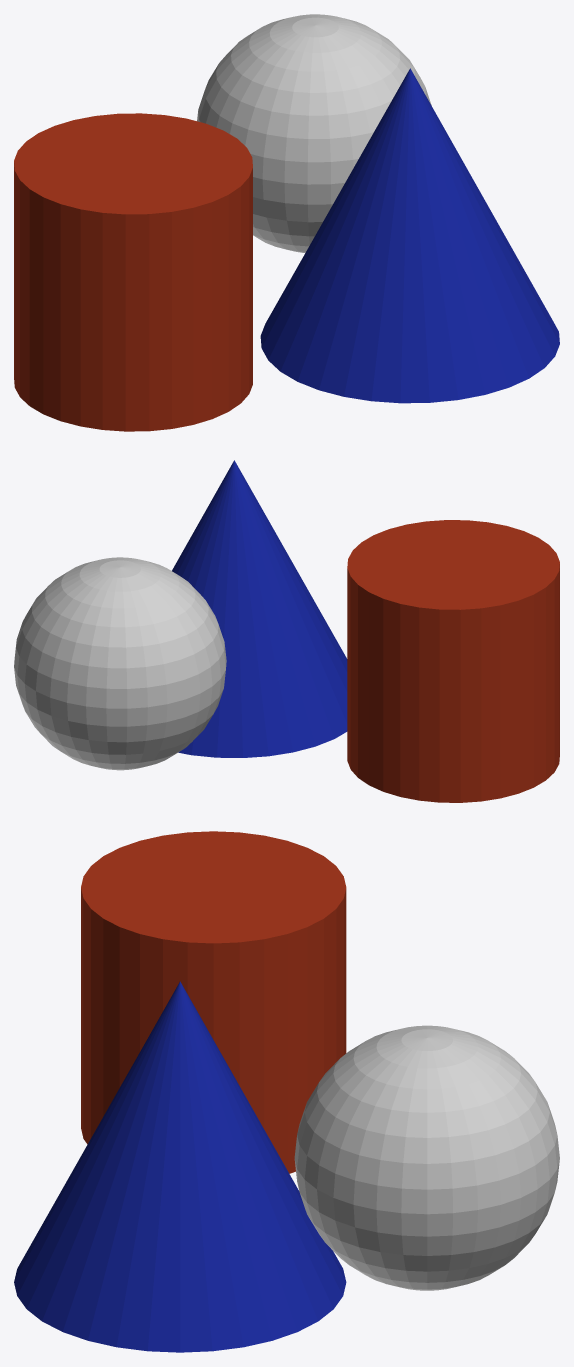
The model's file is ruben.obj.
3 views of the same model, one above another, from view 1: azimuth 30°, elevation 25°; view 2: azimuth 150°, elevation 25°; view 3: azimuth 270°, elevation 25° (orthographic). The views are drawn at different scales.
Parts seen in each view (by area): view 1: Cylinder, Cone.001, Sphere; view 2: Cylinder, Sphere, Cone.001; view 3: Cone.001, Cylinder, Sphere.
Boxes of the visible parts, x1,y1,x2,y2 form: Cylinder: (14, 113, 252, 431); Cone.001: (260, 68, 559, 403); Sphere: (197, 14, 431, 252); Cylinder: (347, 520, 559, 802); Sphere: (14, 557, 226, 770); Cone.001: (172, 460, 347, 757); Cone.001: (14, 981, 346, 1352); Cylinder: (81, 831, 346, 1173); Sphere: (294, 1025, 559, 1290).
Size of what is drawn, in the model's own units: 4.77 by 2.5 by 4.11.
